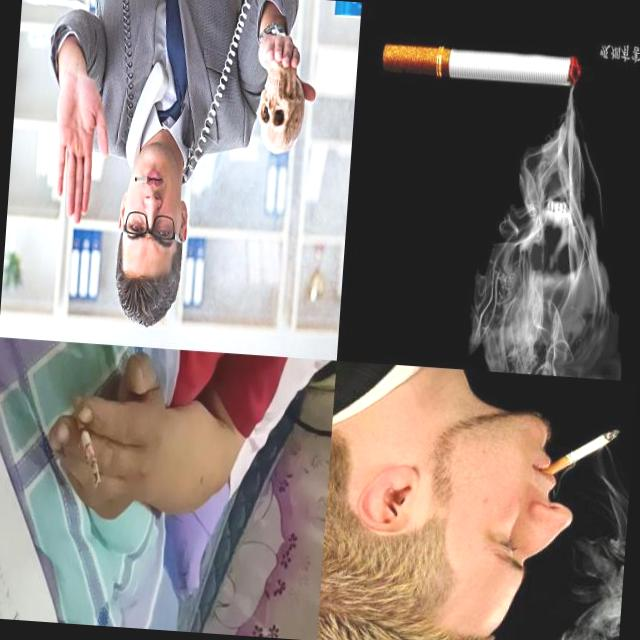cigarette: (377, 32, 584, 92), (536, 416, 625, 486), (67, 394, 107, 487), (134, 176, 150, 183)
